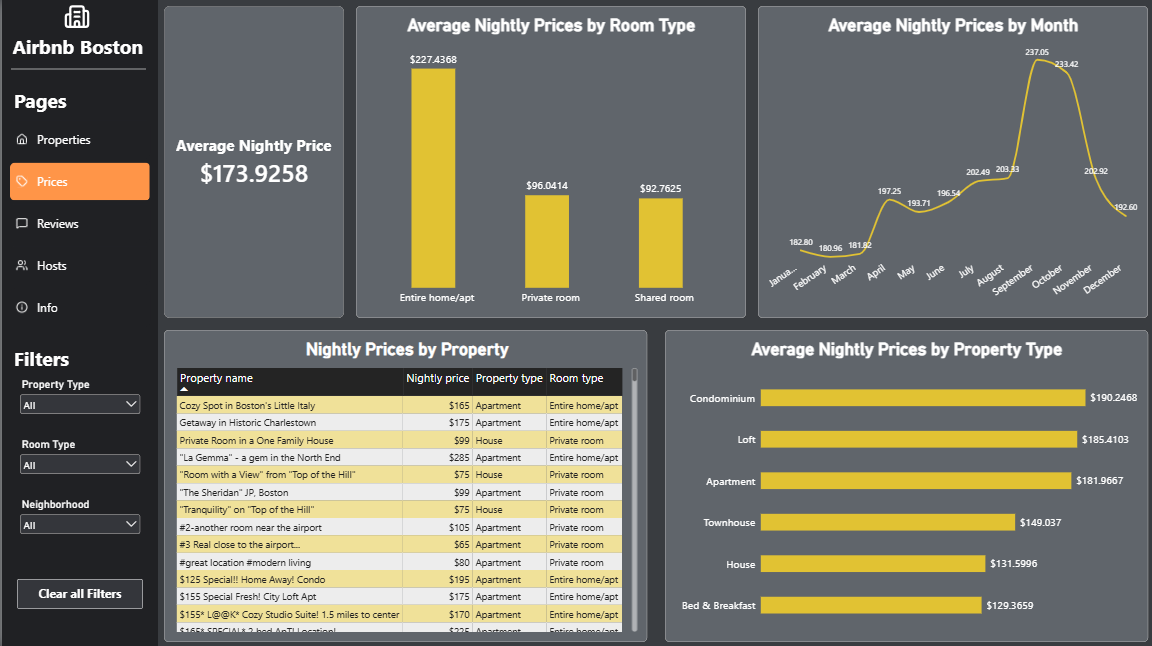

The dashboard page shown, as its layout file describes it:
{"tool":"powerbi","page":{"name":"Prices","canvas":[1920,1080],"ordinal":1},"visuals":[{"type":"shape","box":[0,0,260,1080],"z":0,"group":"g1"},{"type":"lineChart","title":"Average Nightly  Prices by Month","fields":{"Category":["calendar.date.Variation.Date Hierarchy.Month"],"Y":["Avg(calendar.price)"]},"box":[1260,10,650,520],"z":0},{"type":"columnChart","title":"Average Nightly  Prices by Room Type","fields":{"Category":["listings.room_type"],"Y":["Avg(listings.price)"]},"box":[590,10,650,520],"z":1000},{"type":"cardVisual","title":"متوسط سعر العقارات","fields":{"Data":["Avg(listings.price)"]},"box":[270,10,300,520],"z":2000},{"type":"slicer","fields":{"Values":["listings.property_type"]},"box":[25,630,210,70],"z":2000,"group":"g1"},{"type":"tableEx","title":"Nightly Prices by Property","fields":{"Values":["listings.name","listings.price","listings.property_type","listings.room_type"]},"box":[270,550,805,520],"z":3000},{"type":"slicer","fields":{"Values":["listings.room_type"]},"box":[25,730,210,70],"z":3000,"group":"g1"},{"type":"barChart","title":"Average Nightly  Prices by Property Type","fields":{"Category":["listings.property_type"],"Y":["Avg(listings.price)"]},"box":[1105,550,805,520],"z":4000},{"type":"slicer","fields":{"Values":["listings.neighbourhood_cleansed"]},"box":[25,830,210,70],"z":4000,"group":"g1"},{"type":"group","id":"g1","title":"Group 1","box":[0,0,260,1080],"z":5000},{"type":"textbox","box":[20,145,100,50],"z":7000,"group":"g1"},{"type":"shape","box":[15,95,225,40],"z":9000},{"type":"textbox","box":[20,575,110,50],"z":10000,"group":"g1"},{"type":"textbox","box":[17,55,230.6,45.3],"z":11000},{"type":"image","box":[50,5,150,45],"z":12000,"group":"g1"},{"type":"actionButton","box":[26,966,210,50],"z":13000,"group":"g1"},{"type":"actionButton","title":"Overview Button","box":[13,200,235,65],"z":13500,"group":"g1"},{"type":"actionButton","box":[13,270,235,65],"z":14000,"group":"g1"},{"type":"actionButton","box":[13,480,235,65],"z":14250,"group":"g1"},{"type":"actionButton","box":[13,340,235,65],"z":14500,"group":"g1"},{"type":"actionButton","box":[13,410,235,65],"z":15000,"group":"g1"}]}

Visuals, with their boxes on the page's 1920x1080 design canvas (x1, y1, x2, y2). These are canvas units, not pixel positions in the 1152x646 screenshot, which may show the page scaled, cropped or inside an application window:
shape: box(0, 0, 260, 1080)
"Average Nightly  Prices by Month" lineChart: box(1260, 10, 1910, 530)
"Average Nightly  Prices by Room Type" columnChart: box(590, 10, 1240, 530)
"متوسط سعر العقارات" cardVisual: box(270, 10, 570, 530)
slicer - listings.property_type: box(25, 630, 235, 700)
"Nightly Prices by Property" tableEx: box(270, 550, 1075, 1070)
slicer - listings.room_type: box(25, 730, 235, 800)
"Average Nightly  Prices by Property Type" barChart: box(1105, 550, 1910, 1070)
slicer - listings.neighbourhood_cleansed: box(25, 830, 235, 900)
"Group 1" group: box(0, 0, 260, 1080)
textbox: box(20, 145, 120, 195)
shape: box(15, 95, 240, 135)
textbox: box(20, 575, 130, 625)
textbox: box(17, 55, 248, 100)
image: box(50, 5, 200, 50)
actionButton: box(26, 966, 236, 1016)
"Overview Button" actionButton: box(13, 200, 248, 265)
actionButton: box(13, 270, 248, 335)
actionButton: box(13, 480, 248, 545)
actionButton: box(13, 340, 248, 405)
actionButton: box(13, 410, 248, 475)
